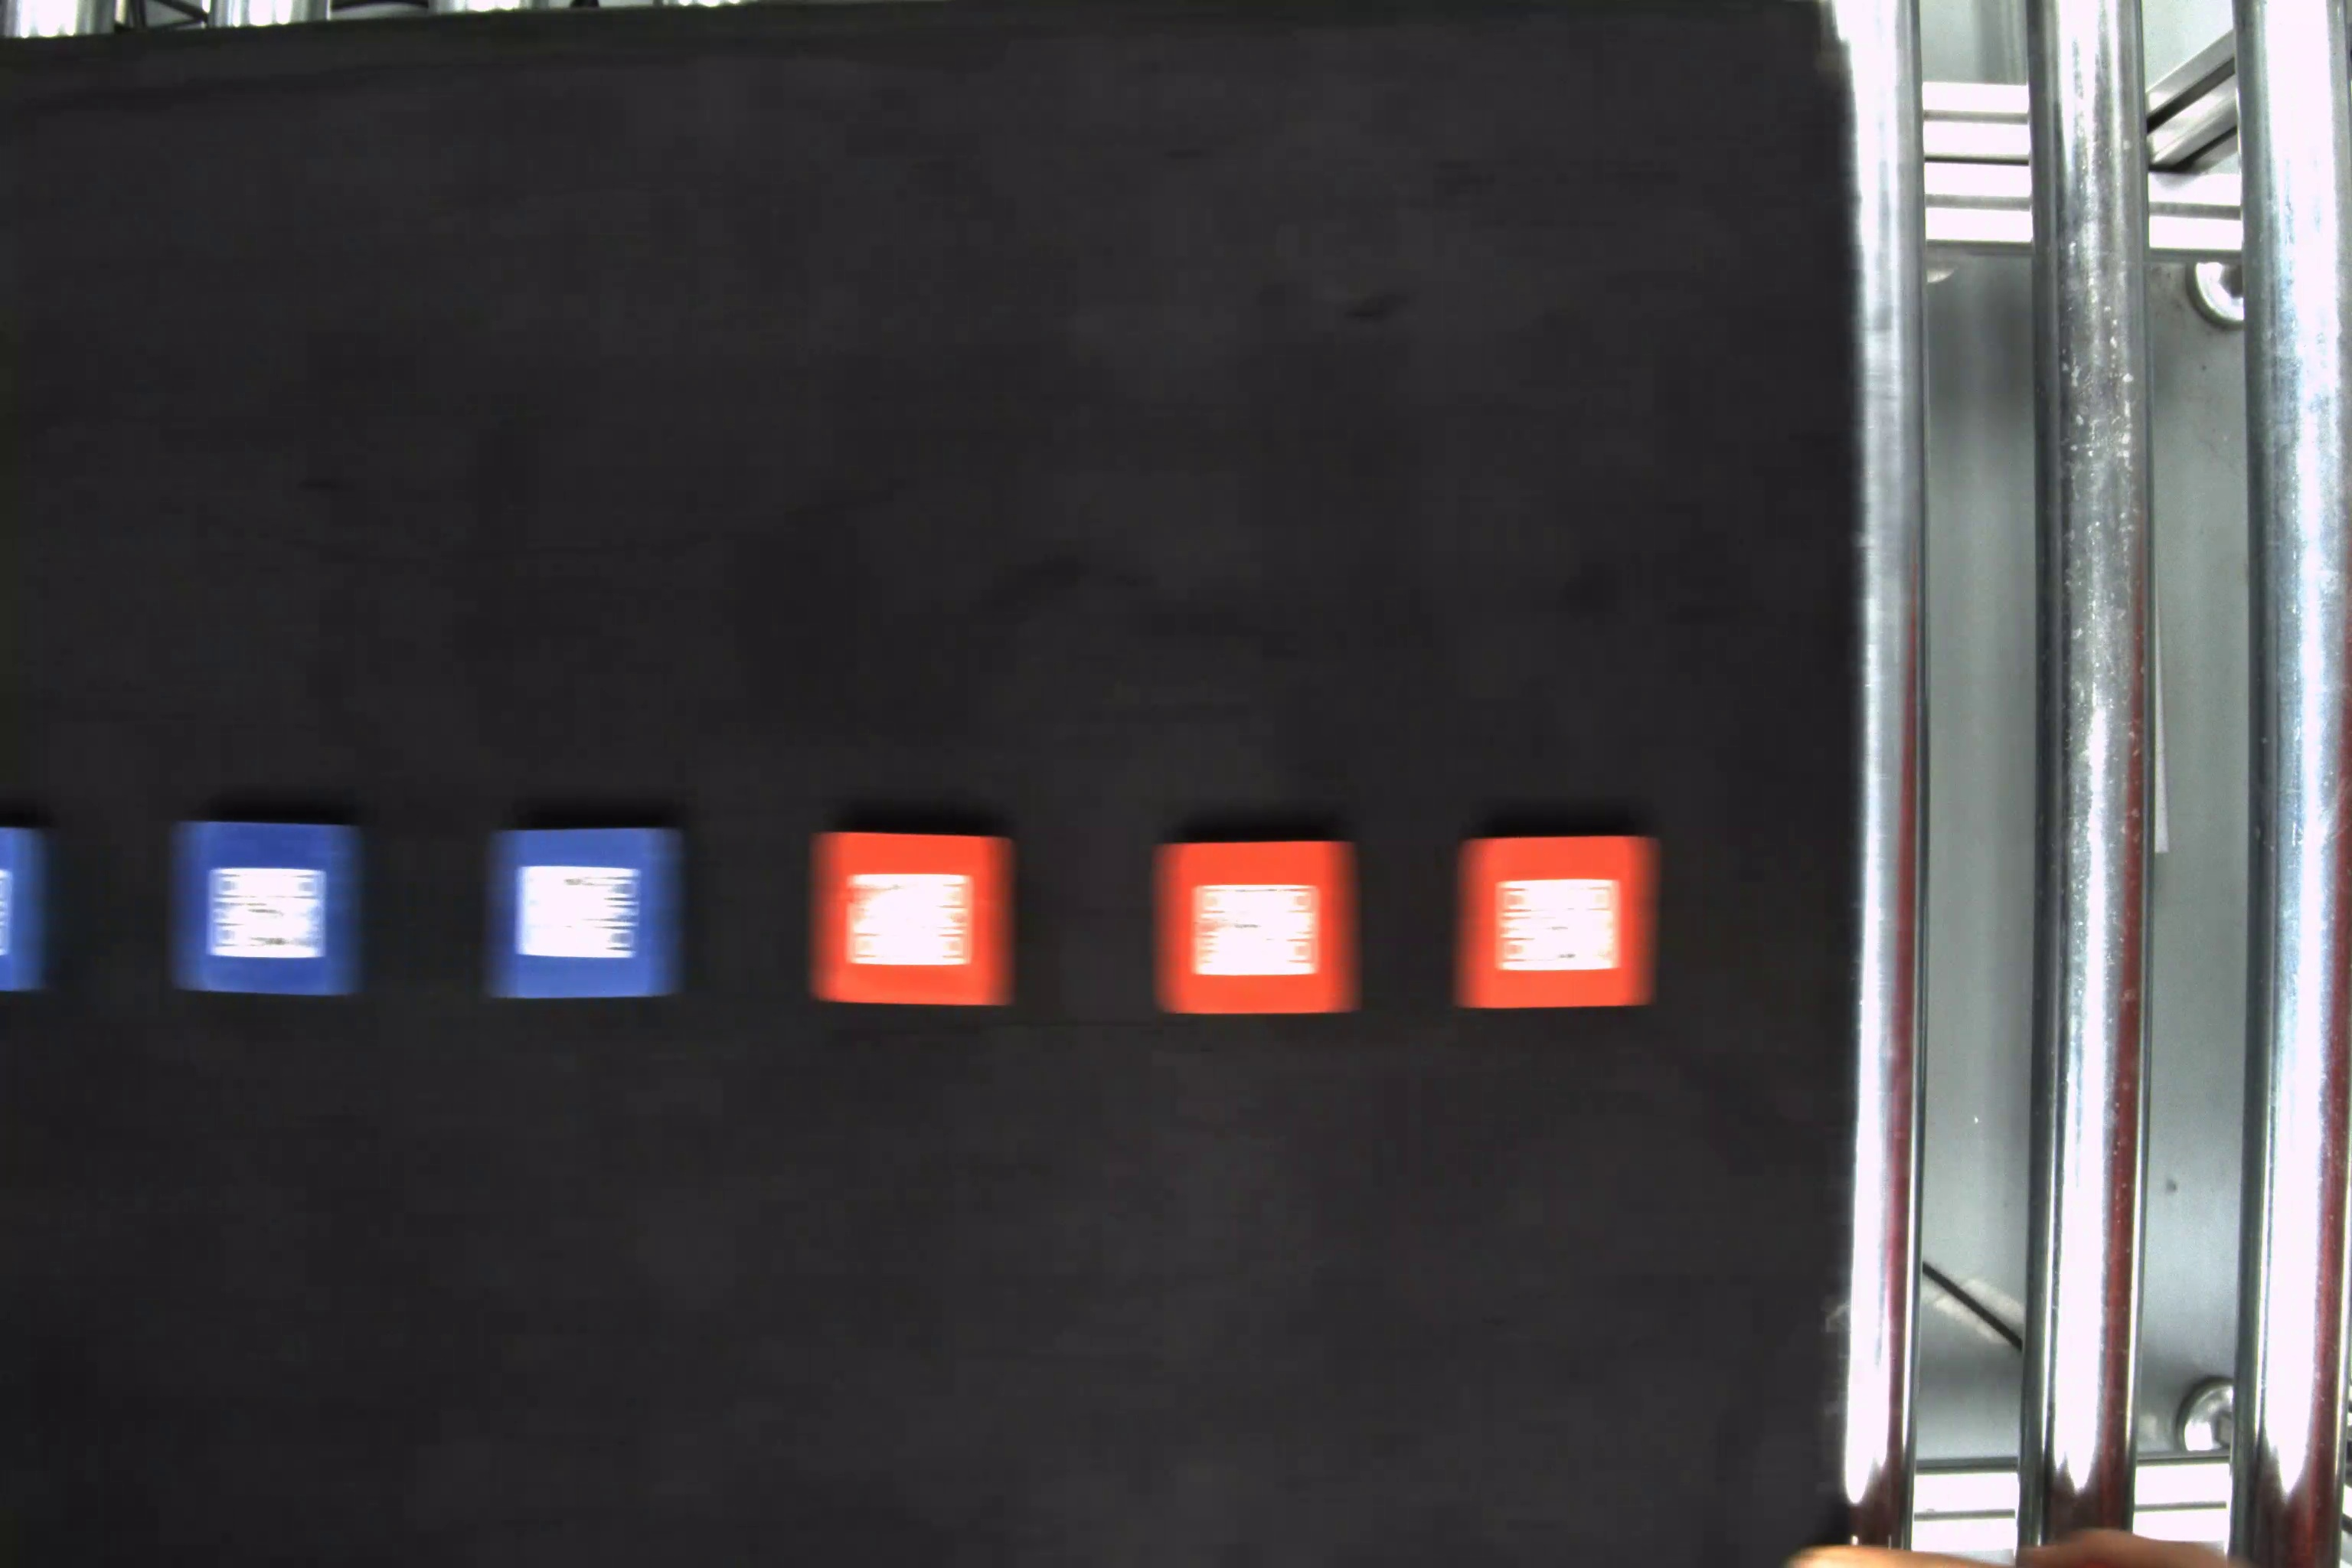wood: (1153, 842, 1361, 1022), (808, 831, 1022, 1006), (171, 819, 374, 1001), (1458, 840, 1668, 1015), (483, 826, 691, 1001), (2, 822, 61, 997)
